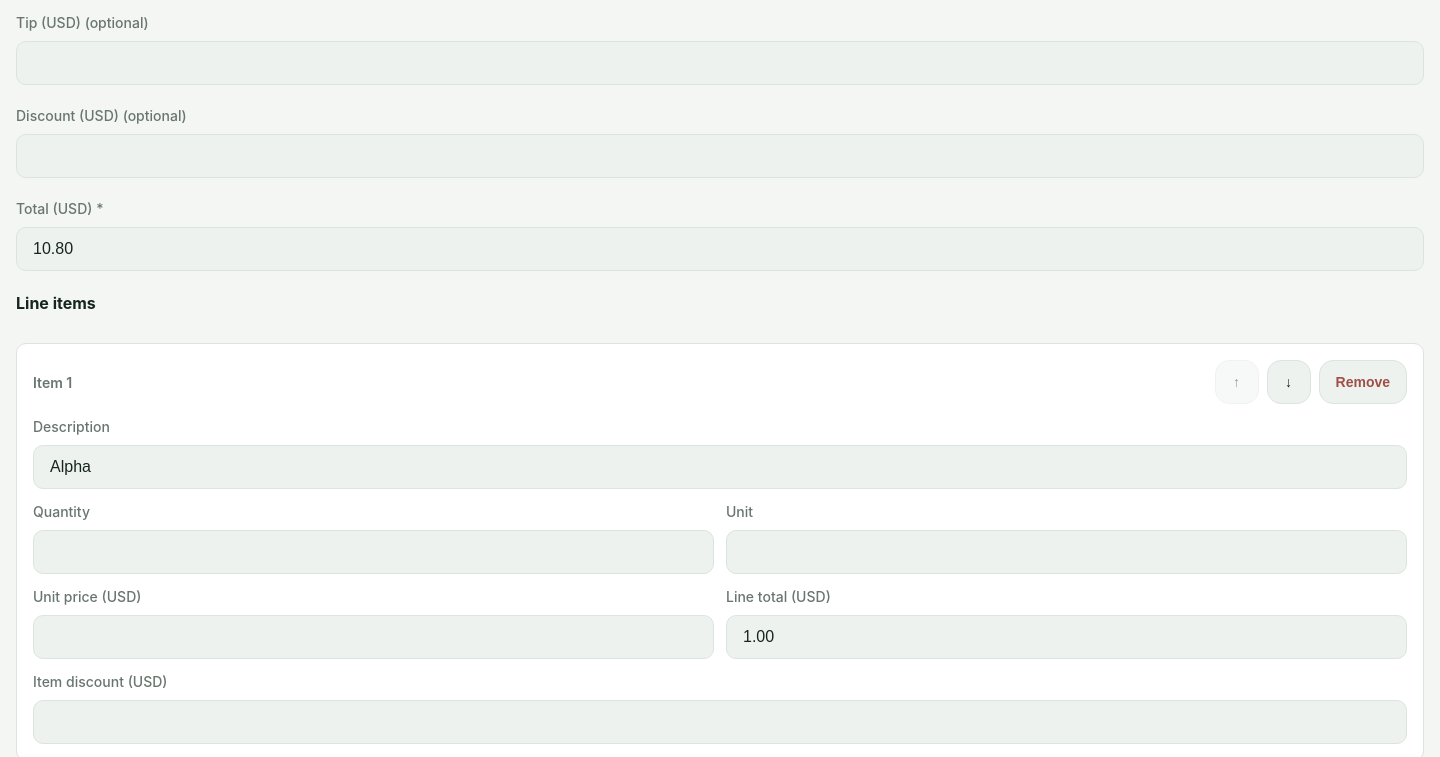
HumanReviewForm › moves a line item down when the ↓ button is clicked
(page scrolled)
// "Move item 1 down" button
What coordinates should you click on to do the following:
click the button named "move item 1 down"
I would click on:
 (1288, 382)
Its box is [1266, 360, 1310, 404].
(page scrolled)
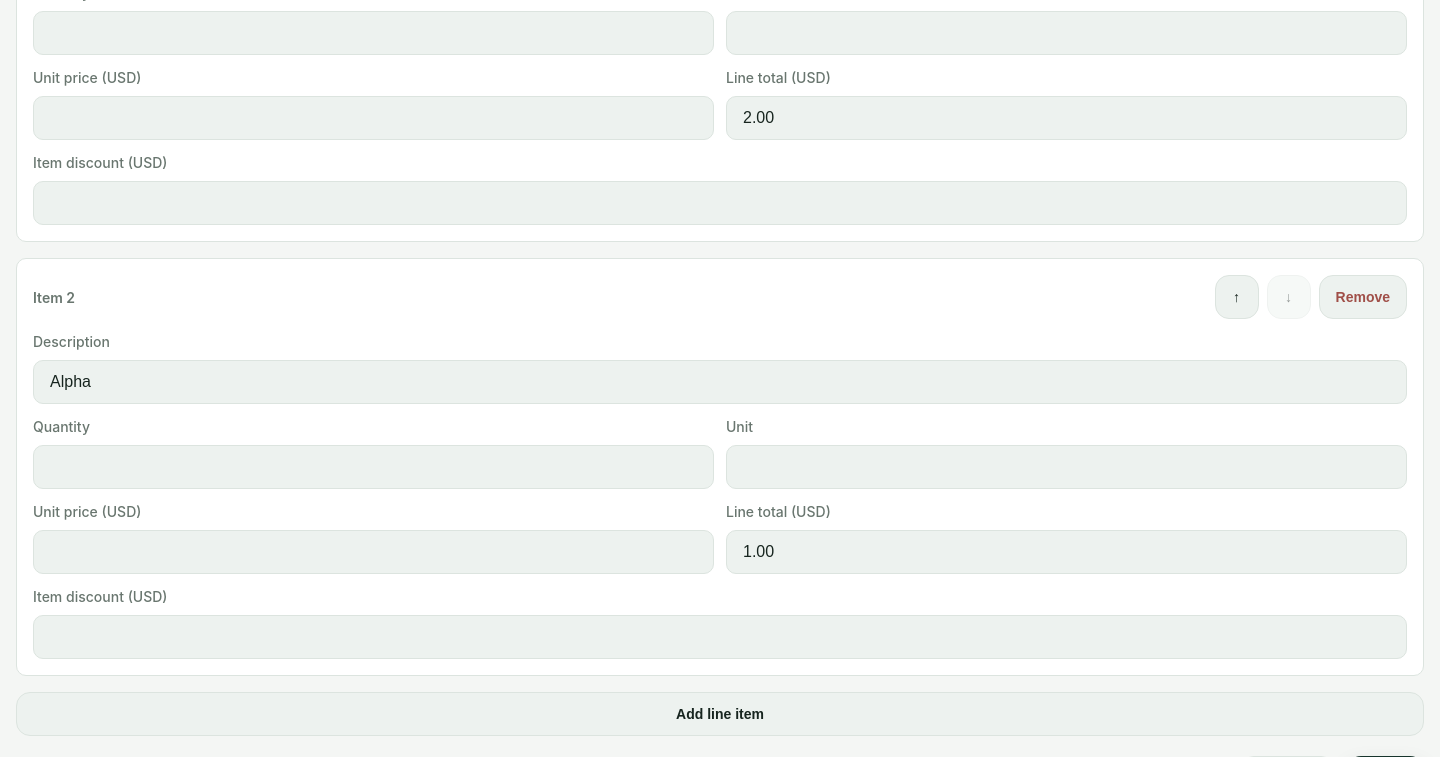
Check: the field labelled "Description" holds "Alpha", box [33, 360, 1407, 404]
